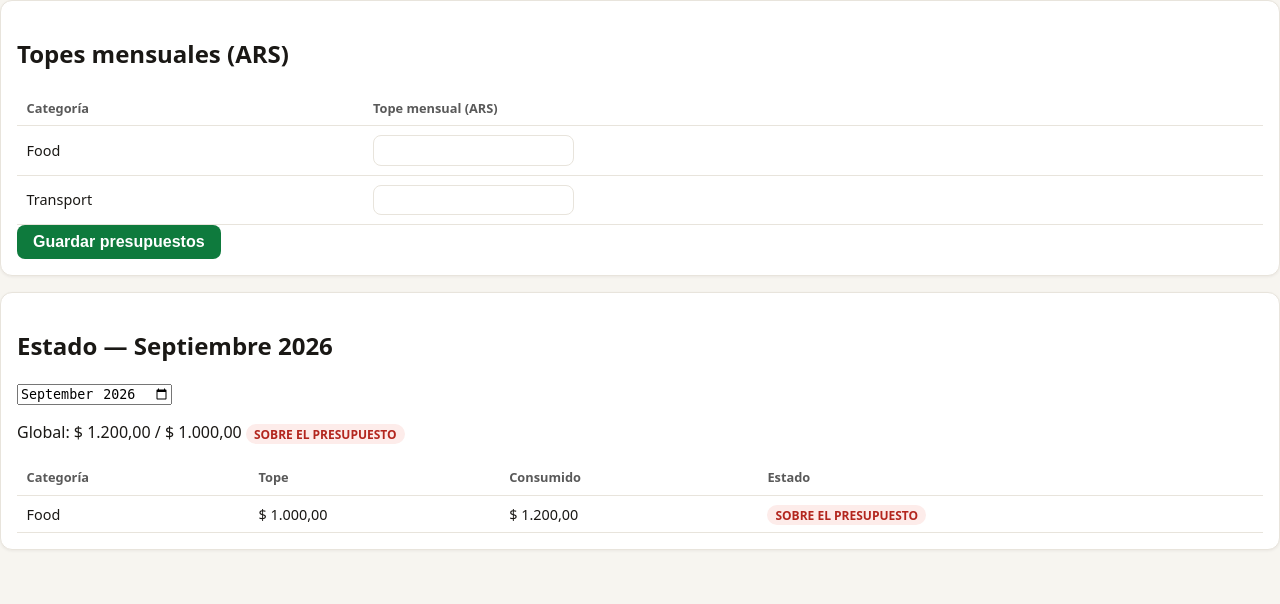
it: BudgetsPage › rejects a scientific-notation cap (1e3) with a validation error and does not save (P2)
In the field with test id "cap-1": [473, 151] box [373,135,574,166], type "1e3"
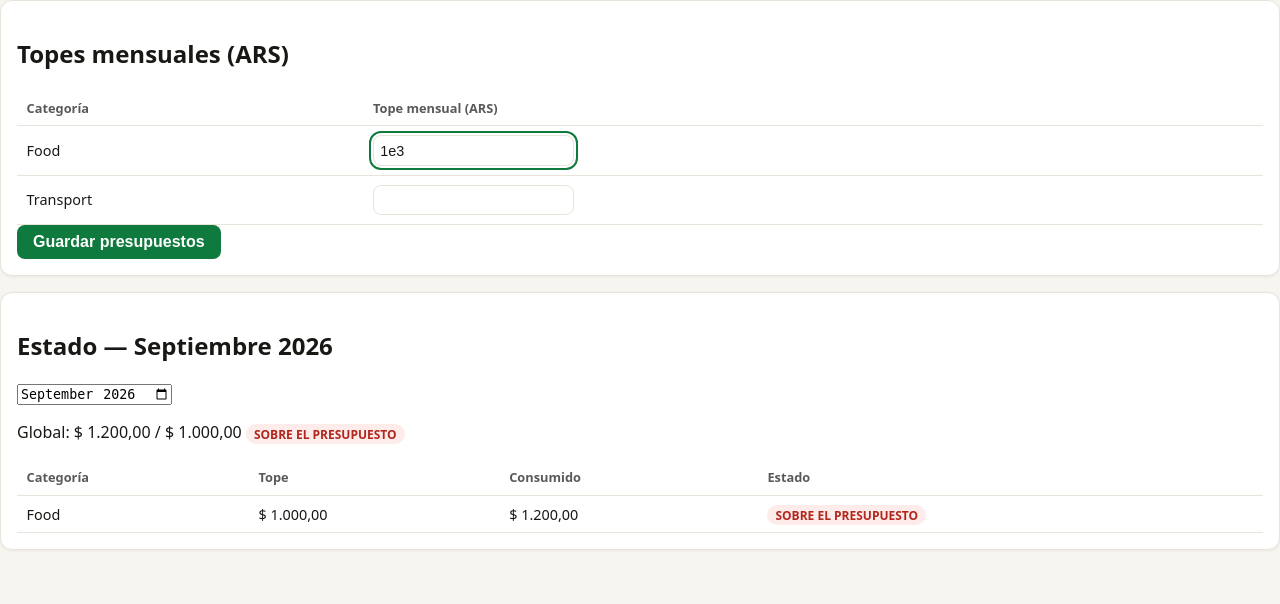
Click the button with test id "budget-save": [119, 242] box [17,225,221,259]
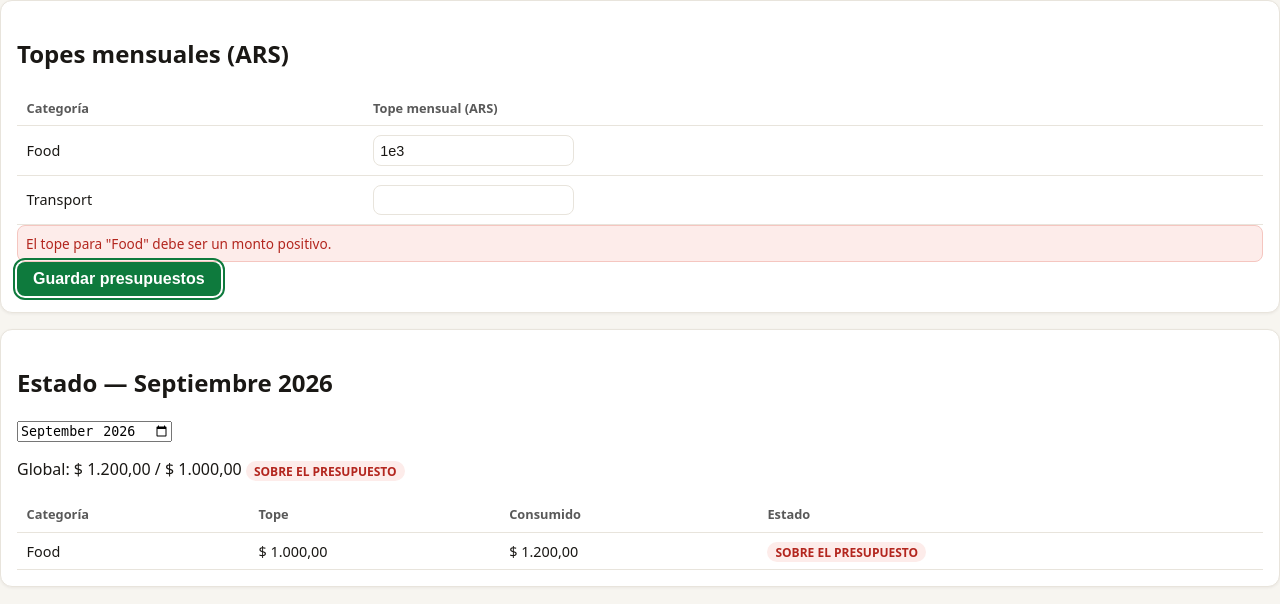
Result: the message reads "El tope para \"Food\" debe ser un monto positivo." at [26,234,331,253]
